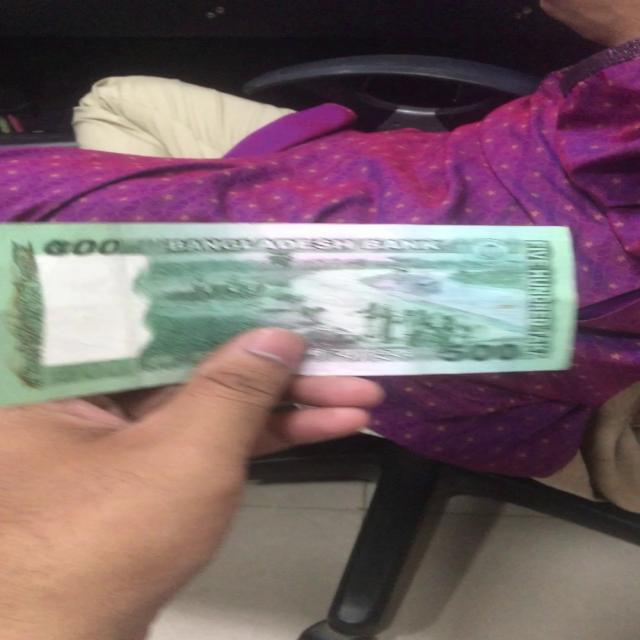Taka: (5, 225, 568, 374)
